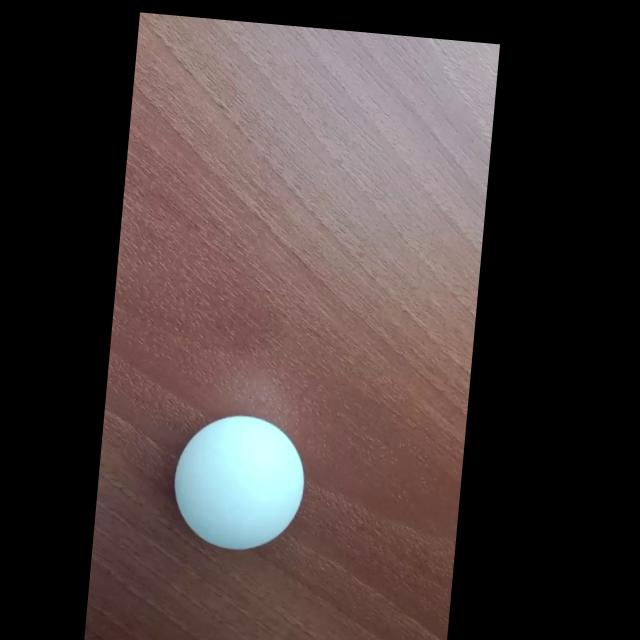white ball: (168, 409, 310, 557)
